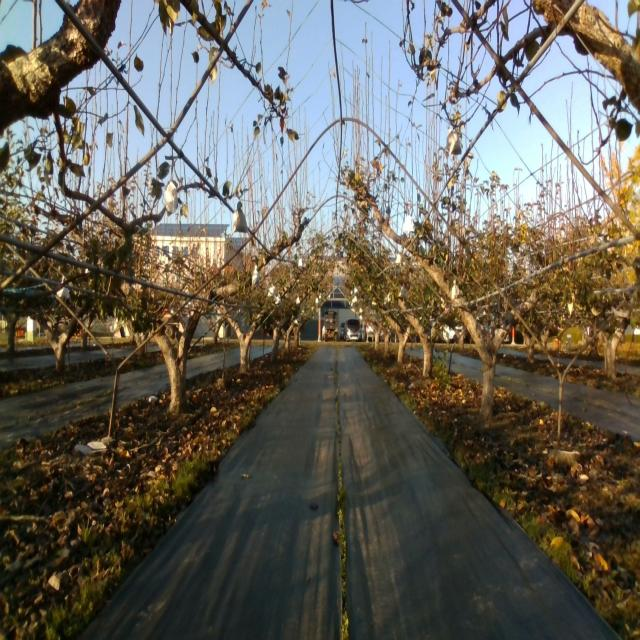pearbags: (232, 201, 248, 232), (165, 180, 178, 217), (446, 128, 462, 157)
